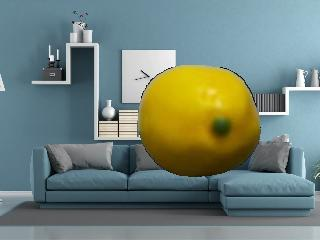lemon: (136, 60, 264, 180)
